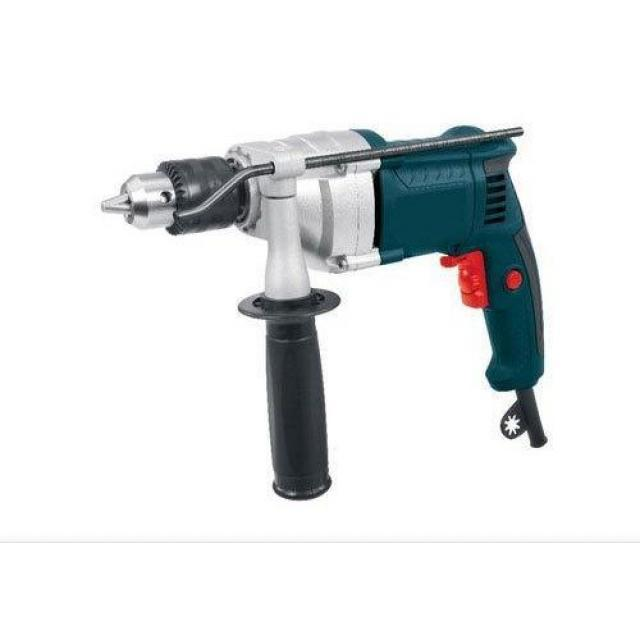drill: (98, 125, 550, 502)
